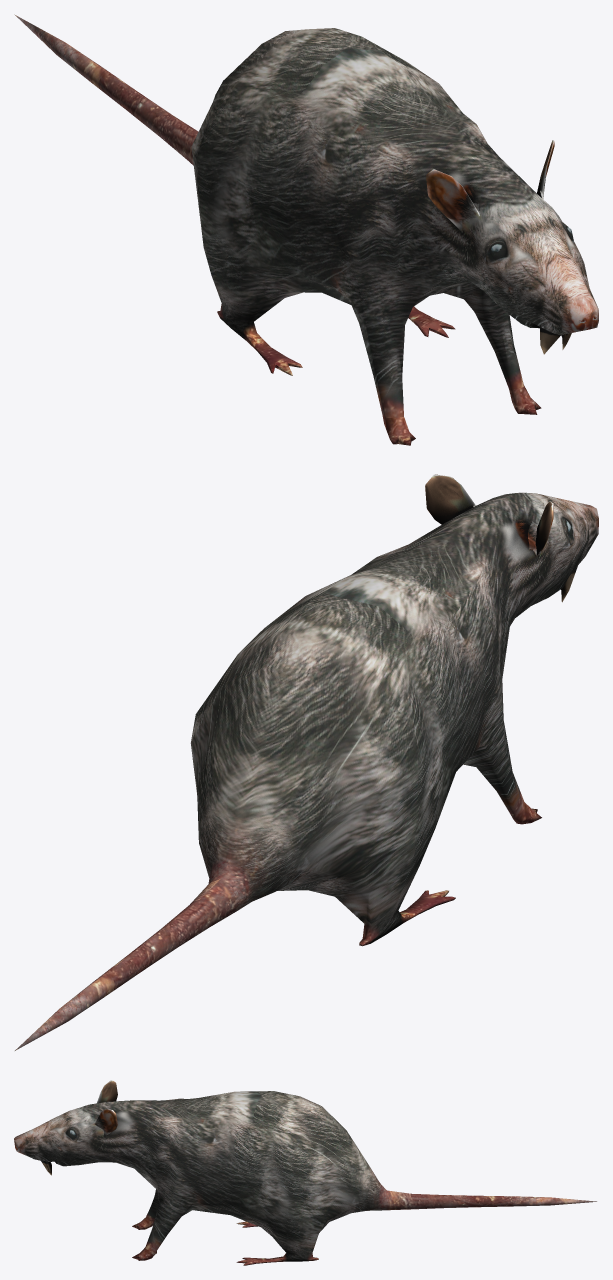
The model's file is low_poly_rat.glb.
3 renders of one model, top to bottom at view 1: azimuth 30°, elevation 25°; view 2: azimuth 150°, elevation 25°; view 3: azimuth 270°, elevation 25°, orthographic. The views are drawn at different scales.
Visible parts, largest first — view 1: ratlow; view 2: ratlow; view 3: ratlow.
Part boxes in pixels (x1=…): ratlow: x1=14, y1=14, x2=598, y2=445; ratlow: x1=15, y1=474, x2=598, y2=1050; ratlow: x1=14, y1=1080, x2=596, y2=1265.
Size of the model in its own units: 1.21 by 1.52 by 5.44.
Materials: 1 (1 with a texture image).
